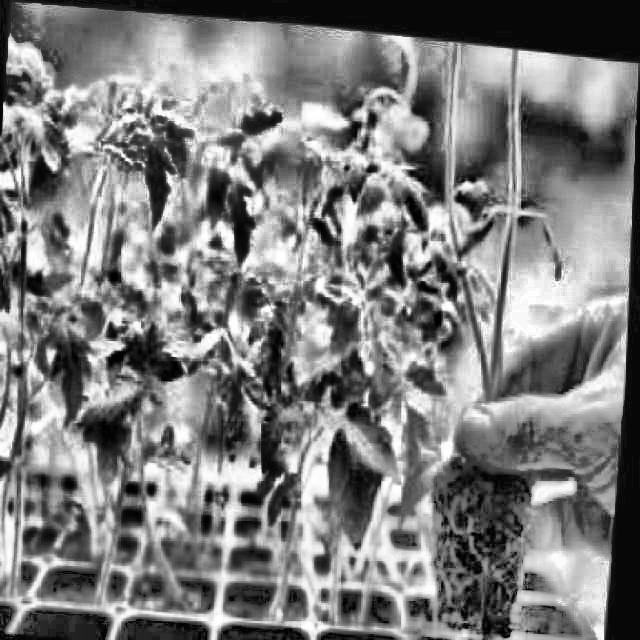plants: (56, 70, 286, 608), (399, 55, 578, 637), (303, 46, 472, 588), (224, 150, 356, 601), (0, 37, 91, 583)
